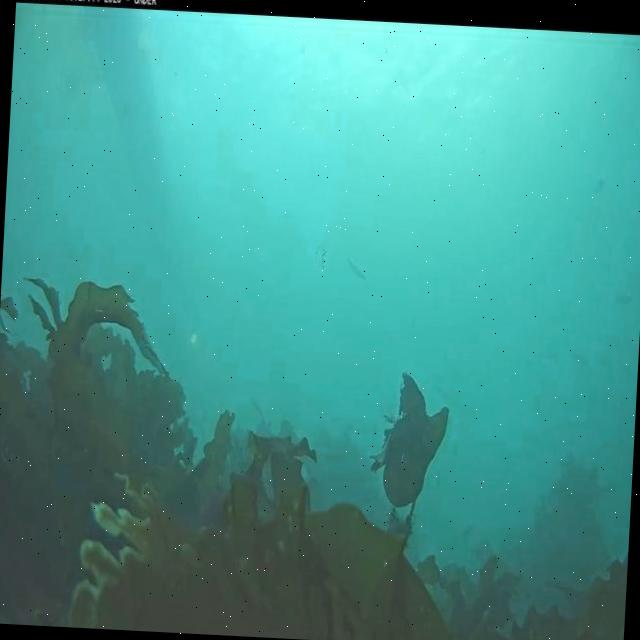fish: (346, 258, 366, 278)
